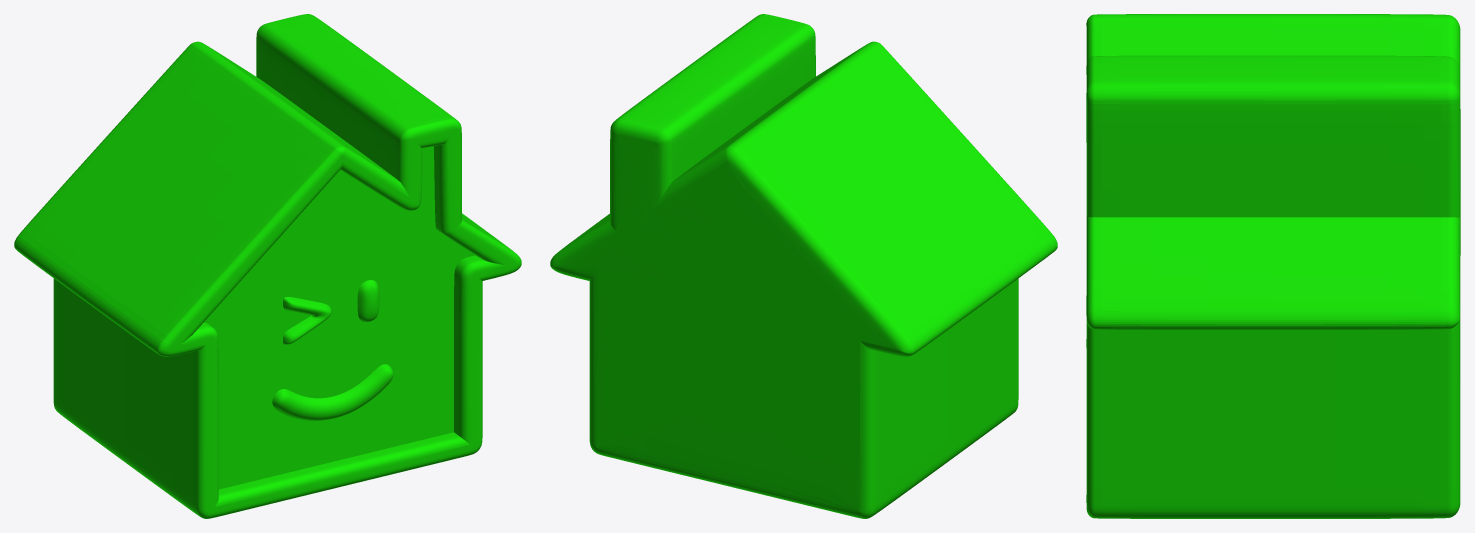
The model's file is frensHouse_chrome2.glb.
3 renders of one model, left to right at view 1: azimuth 30°, elevation 25°; view 2: azimuth 150°, elevation 25°; view 3: azimuth 270°, elevation 25°, orthographic. The views are drawn at different scales.
Parts seen in each view (by area): view 1: House; view 2: House; view 3: House.
Boxes of the visible parts, x1,y1,x2,y2 form: House: (14, 14, 521, 518); House: (550, 14, 1057, 518); House: (1086, 14, 1460, 518).
Size of the model in its own units: 70.44 by 63.18 by 50.42.
